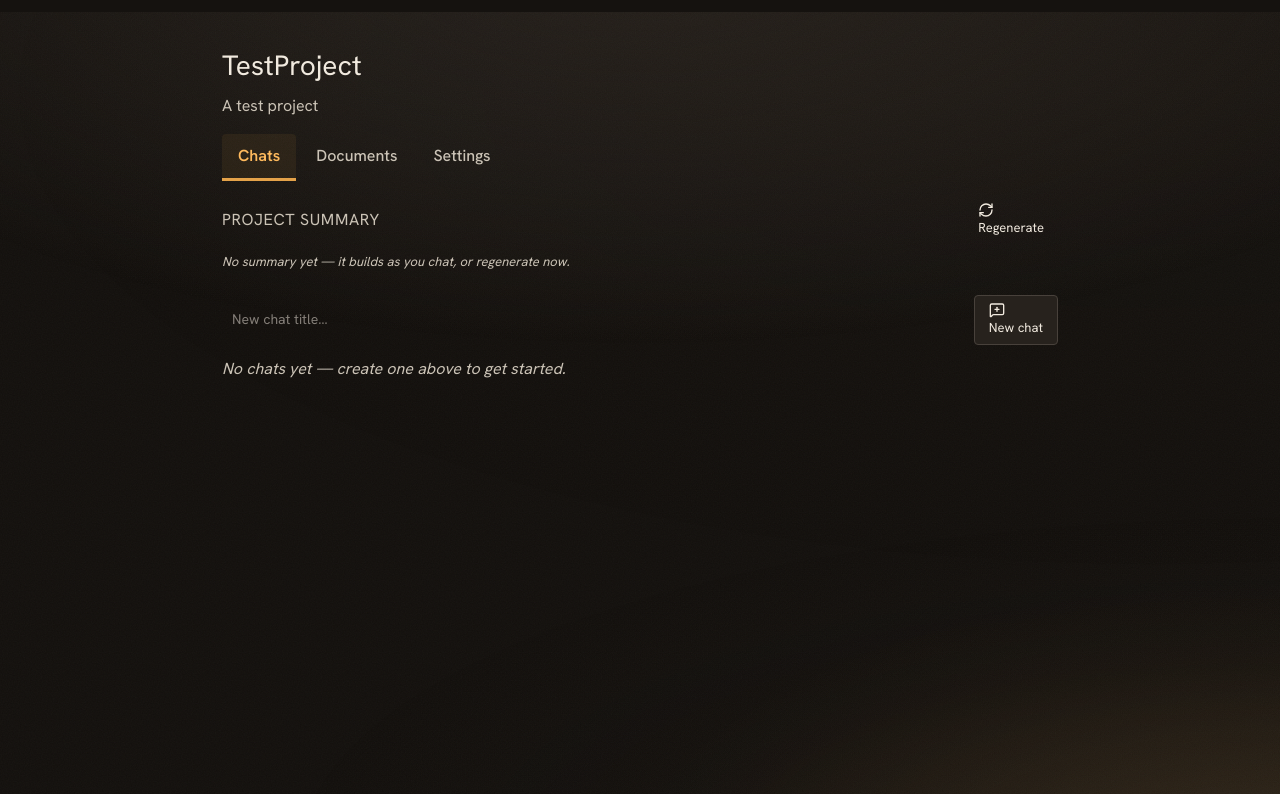
Test: Project page › clicking the Settings tab reveals the presets dropdown
Click the tab with test id "project-tab-settings".
click(462, 158)  # box x1=418 y1=134 x2=507 y2=181
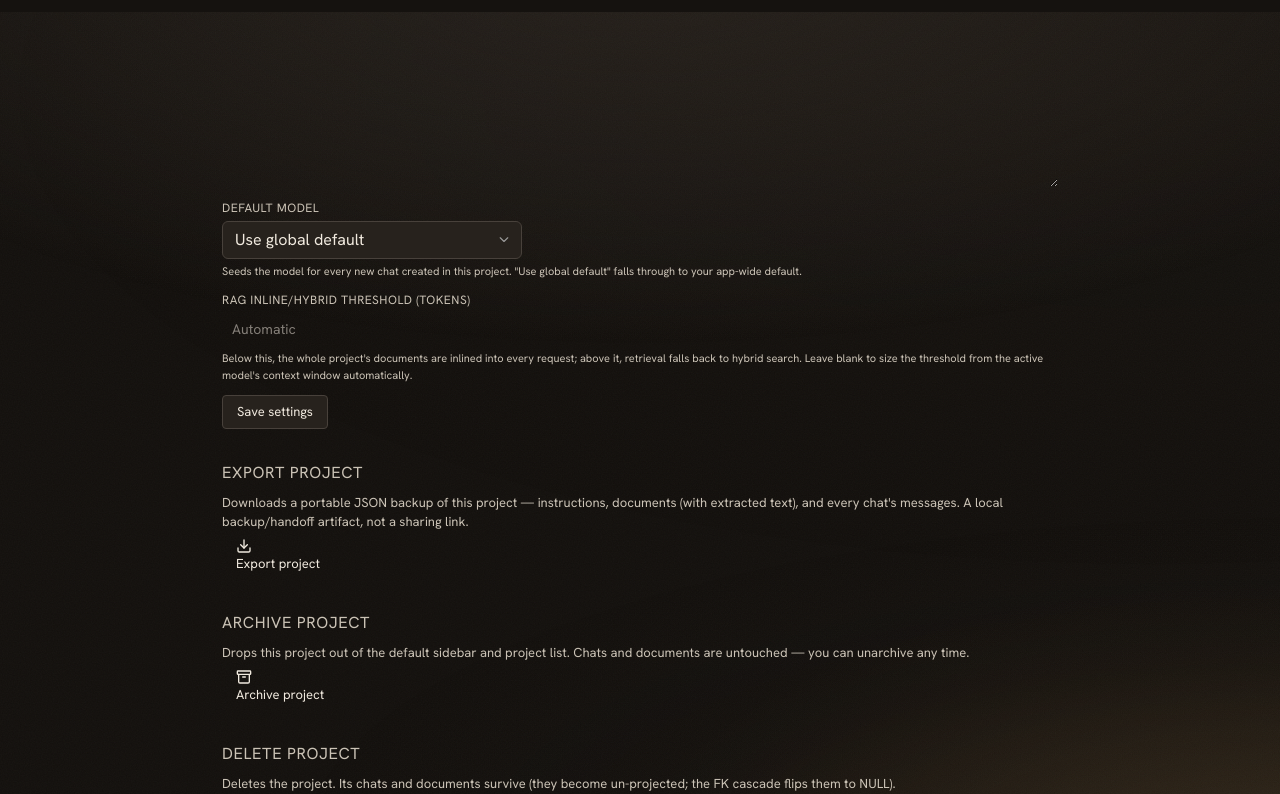
Check: the button with test id "project-settings-save" is shown, box x1=222 y1=395 x2=328 y2=428
